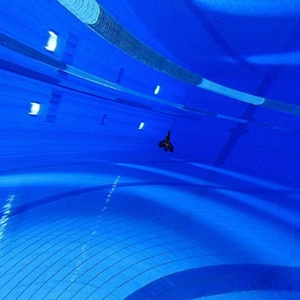submarine: (158, 126, 176, 156)
